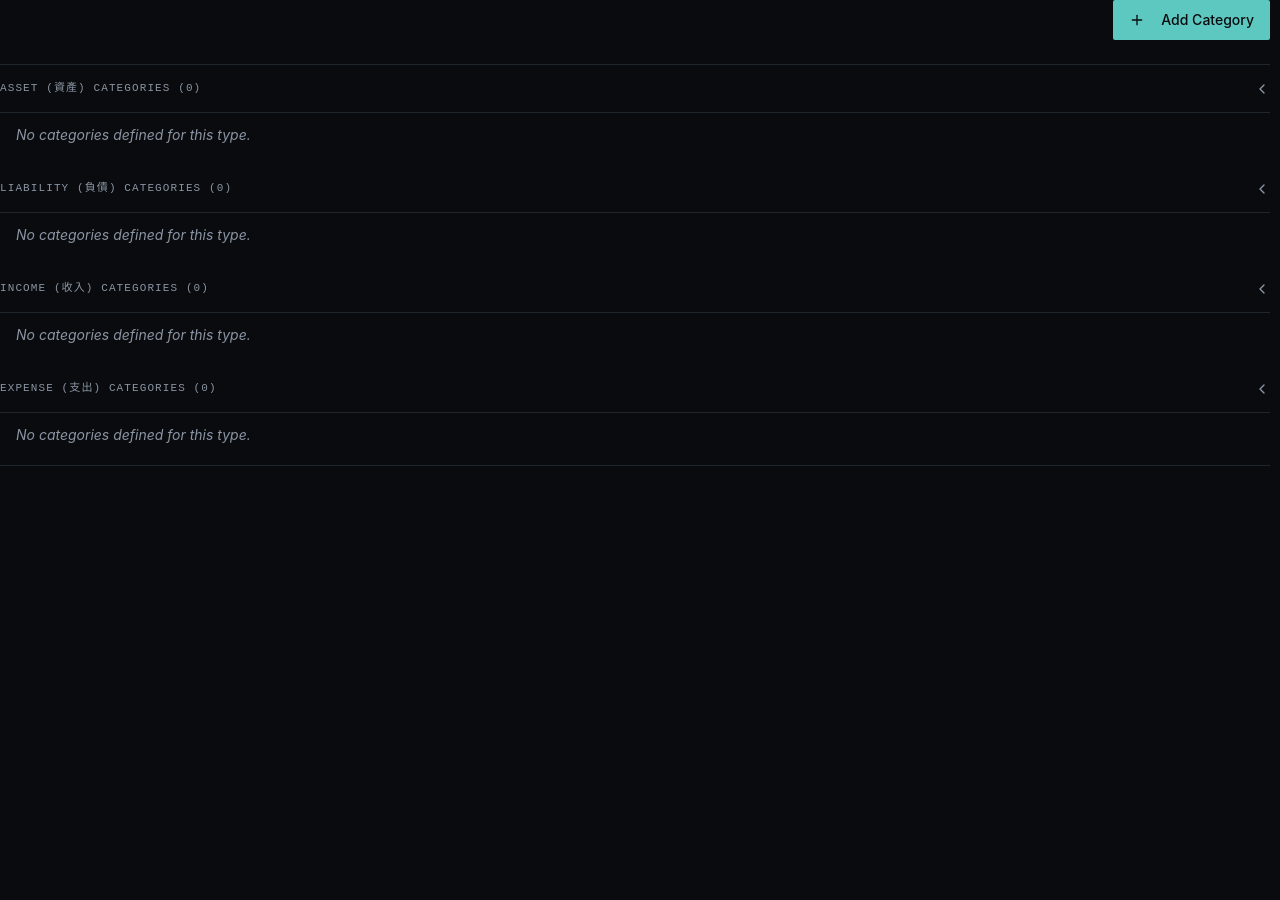
Test case: LedgerCodeSettings › keeps the add form out of the page until the dialog is opened
Expected: the field with placeholder "property 或 property:taipei" is not shown
Click the button "Add Category".
click(1192, 20)  # box [1113,0,1270,40]
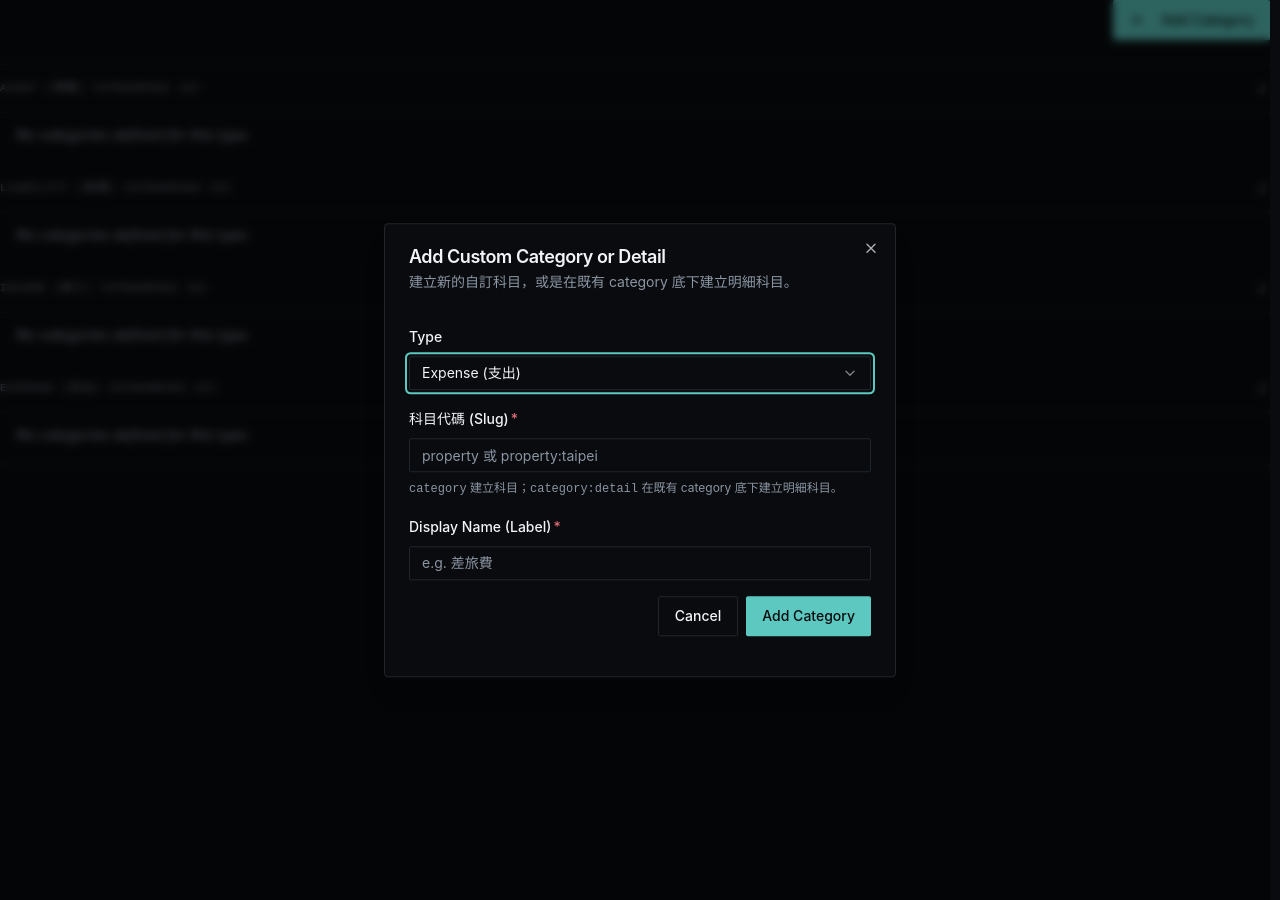
Expected: the field with placeholder "property 或 property:taipei" is shown, [409,438,871,472]
